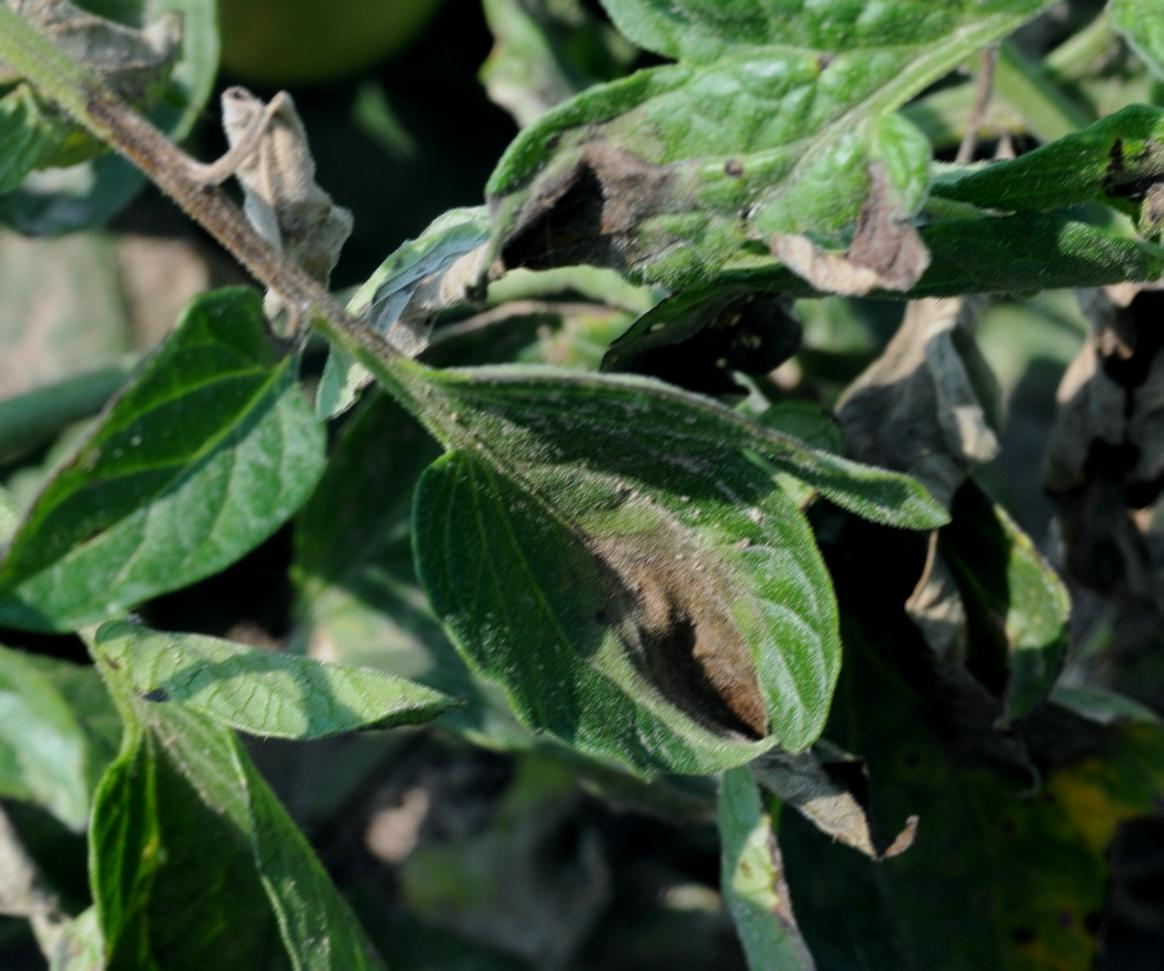Tomato leaf late blight: (403, 359, 879, 832), (499, 0, 997, 331)
